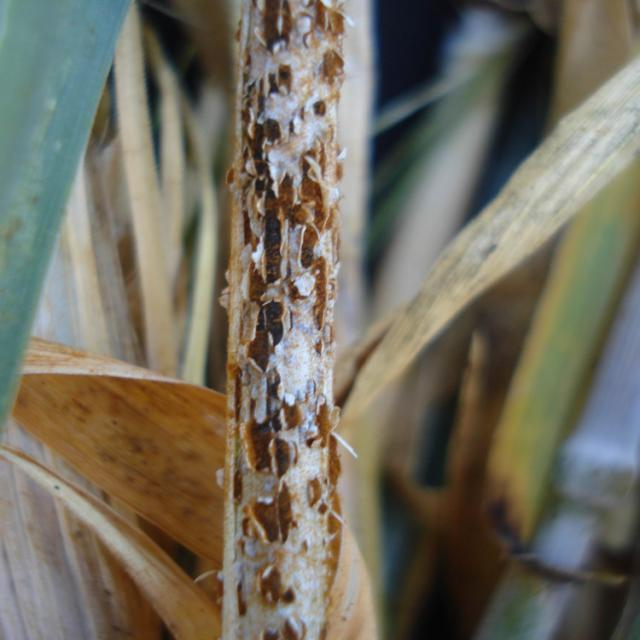wheat-stemrust: (217, 0, 358, 640)
